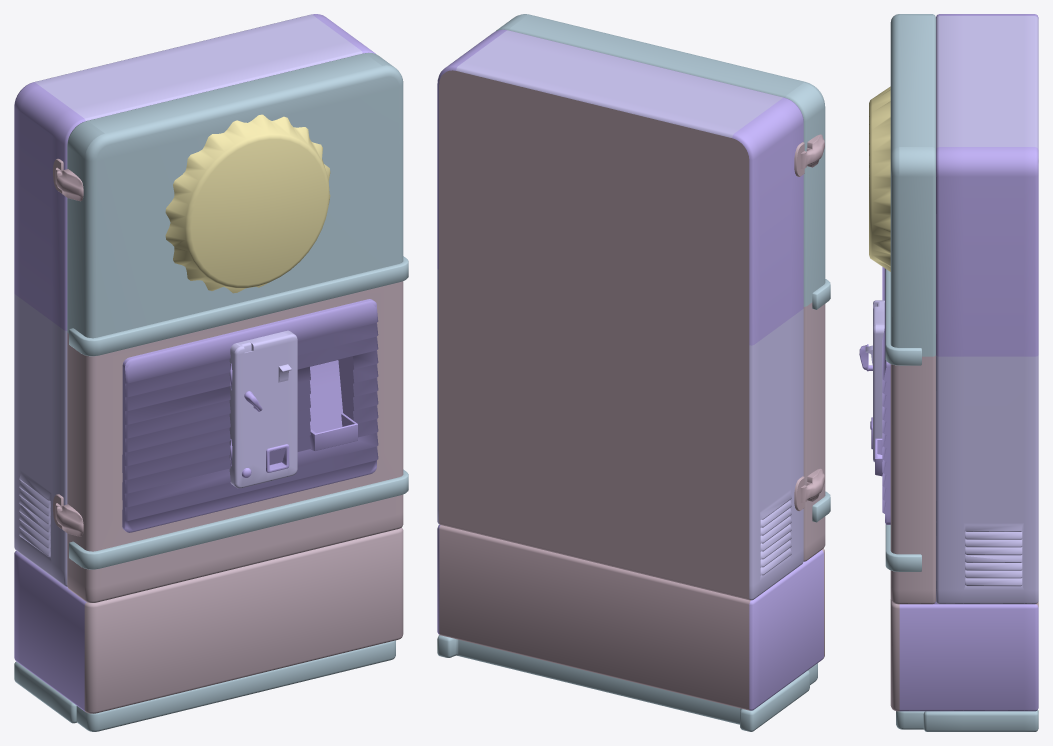
The model's file is DoubleTap.fbx.
The picture shows the model from 3 angles, left to right: view 1: azimuth 30°, elevation 25°; view 2: azimuth 150°, elevation 25°; view 3: azimuth 270°, elevation 25°; orthographic projection. The views are drawn at different scales.
Visible parts, largest first — view 1: mc_mtl_p7_zm_vending_doubletap2_front_top, mc_mtl_p7_zm_vending_doubletap2_front_bottom, mc_mtl_p7_zm_vending_doubletap2_side_top, mc_mtl_p7_zm_vending_doubletap2_side_bottom, mc_mtl_p7_zm_vending_doubletap2_sign, mc_mtl_p7_zm_vending_doubletap2_back; view 2: mc_mtl_p7_zm_vending_doubletap2_back, mc_mtl_p7_zm_vending_doubletap2_side_bottom, mc_mtl_p7_zm_vending_doubletap2_side_top, mc_mtl_p7_zm_vending_doubletap2_front_top, mc_mtl_p7_zm_vending_doubletap2_front_bottom; view 3: mc_mtl_p7_zm_vending_doubletap2_side_bottom, mc_mtl_p7_zm_vending_doubletap2_side_top, mc_mtl_p7_zm_vending_doubletap2_front_top, mc_mtl_p7_zm_vending_doubletap2_front_bottom, mc_mtl_p7_zm_vending_doubletap2_sign.
Boxes of the visible parts, <box> form: mc_mtl_p7_zm_vending_doubletap2_front_top: <box>14,52,408,731</box>; mc_mtl_p7_zm_vending_doubletap2_front_bottom: <box>67,281,403,713</box>; mc_mtl_p7_zm_vending_doubletap2_side_top: <box>14,14,378,711</box>; mc_mtl_p7_zm_vending_doubletap2_side_bottom: <box>14,14,362,586</box>; mc_mtl_p7_zm_vending_doubletap2_sign: <box>165,114,330,293</box>; mc_mtl_p7_zm_vending_doubletap2_back: <box>53,158,83,536</box>; mc_mtl_p7_zm_vending_doubletap2_back: <box>439,70,824,710</box>; mc_mtl_p7_zm_vending_doubletap2_side_bottom: <box>437,30,803,600</box>; mc_mtl_p7_zm_vending_doubletap2_side_top: <box>437,29,823,710</box>; mc_mtl_p7_zm_vending_doubletap2_front_top: <box>437,14,830,731</box>; mc_mtl_p7_zm_vending_doubletap2_front_bottom: <box>803,302,825,658</box>; mc_mtl_p7_zm_vending_doubletap2_side_bottom: <box>865,16,1038,604</box>; mc_mtl_p7_zm_vending_doubletap2_side_top: <box>859,14,1038,711</box>; mc_mtl_p7_zm_vending_doubletap2_front_top: <box>885,14,1038,731</box>; mc_mtl_p7_zm_vending_doubletap2_front_bottom: <box>890,355,935,711</box>; mc_mtl_p7_zm_vending_doubletap2_sign: <box>869,86,890,271</box>.
Bounding box in the file's own units: 5336 × 9150 × 2575.
